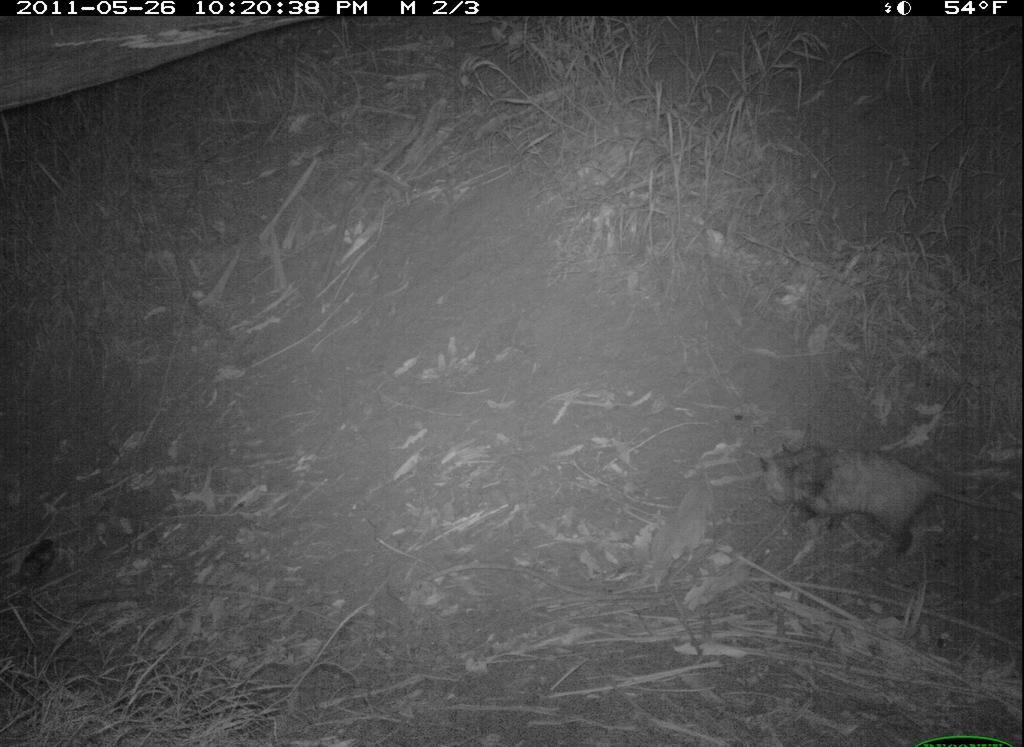opossum: (757, 434, 1018, 569)
